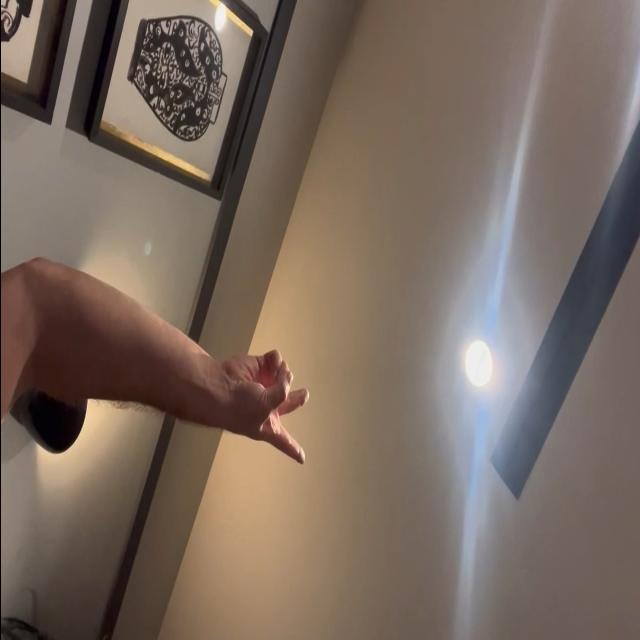Scissors: (228, 344, 310, 464)
